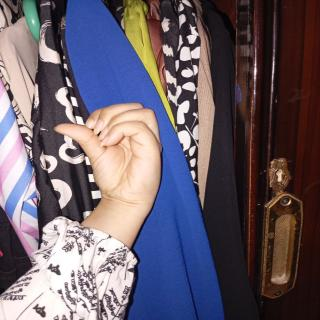WAW: (52, 93, 220, 214)
